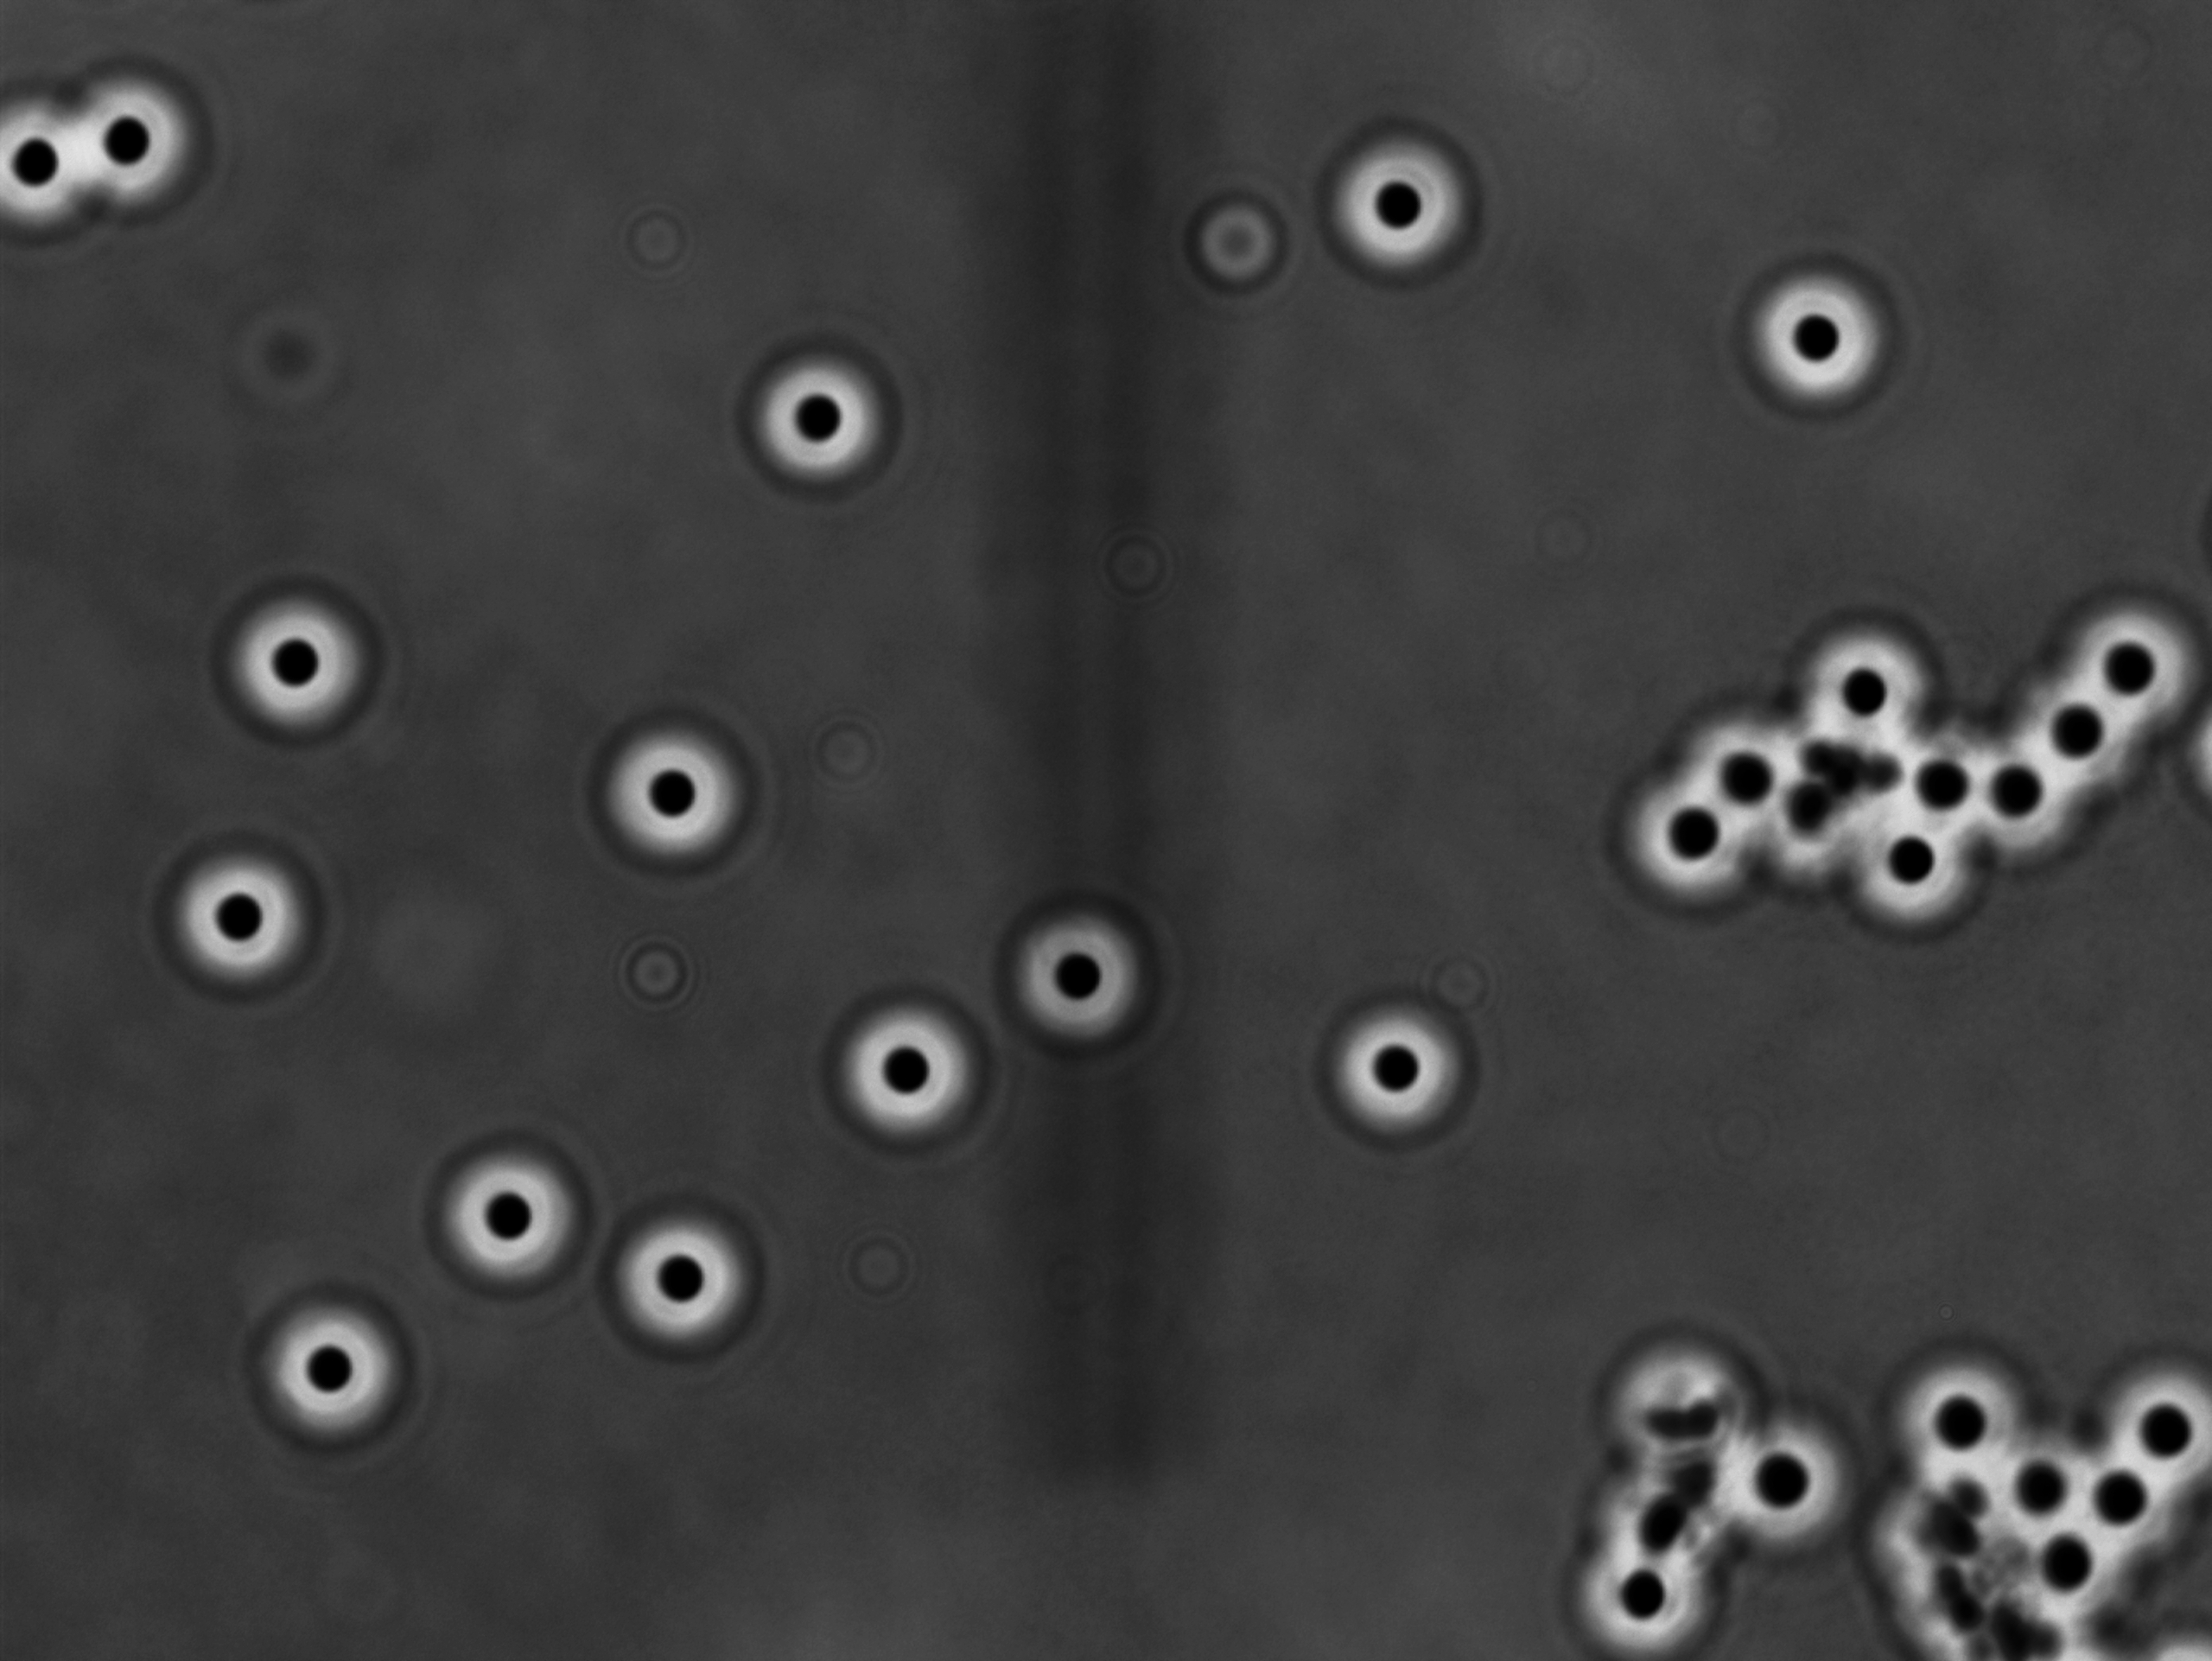depth:-40: (813, 977, 1008, 1169), (972, 867, 1165, 1059), (232, 1270, 419, 1466), (1718, 249, 1914, 426), (1303, 105, 1495, 283), (597, 1193, 790, 1368), (148, 818, 333, 1000), (426, 1129, 611, 1307), (584, 717, 782, 883), (206, 567, 389, 745), (1307, 979, 1490, 1155), (736, 338, 907, 513), (1607, 764, 1783, 919), (1797, 604, 1952, 759), (1666, 680, 1823, 834), (1964, 715, 2118, 865), (2013, 661, 2167, 811), (66, 73, 223, 216), (2069, 590, 2212, 745), (1846, 797, 1994, 940), (1889, 710, 2039, 846)
